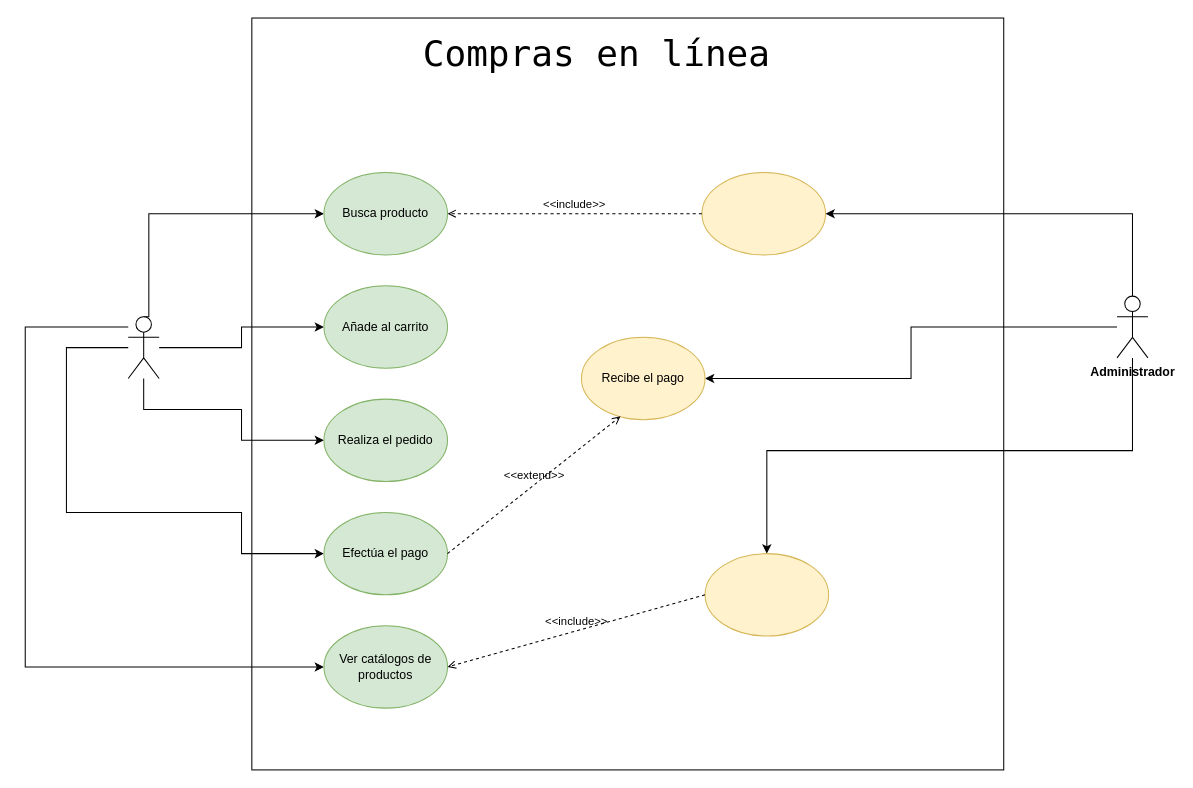
Image size: 1193x788. Some labels were removed from this diagram. Each missing label, with the centre of its shape:
Cliente: point 143,347
Gestiona productos: point 766,594
Gestionar precios: point 763,213
